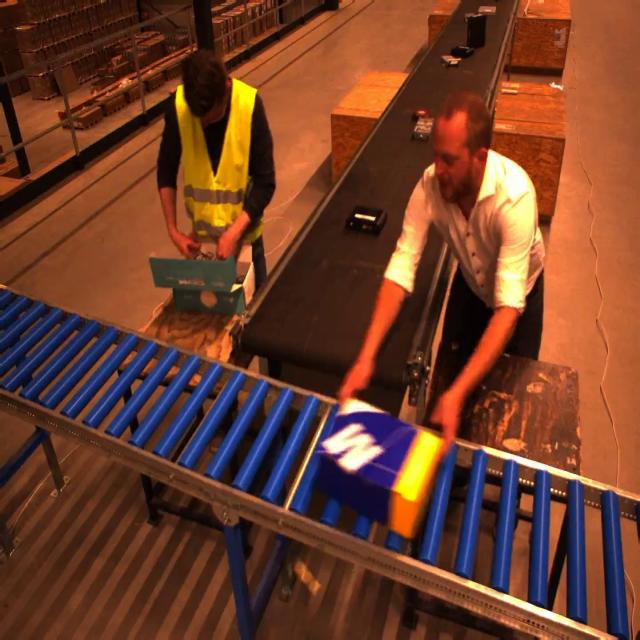box: (312, 405, 443, 541), (149, 242, 257, 316)
product: (344, 205, 387, 234), (465, 12, 486, 50), (411, 115, 433, 140), (450, 45, 475, 58), (440, 55, 461, 66), (412, 108, 429, 120), (477, 5, 496, 15)
